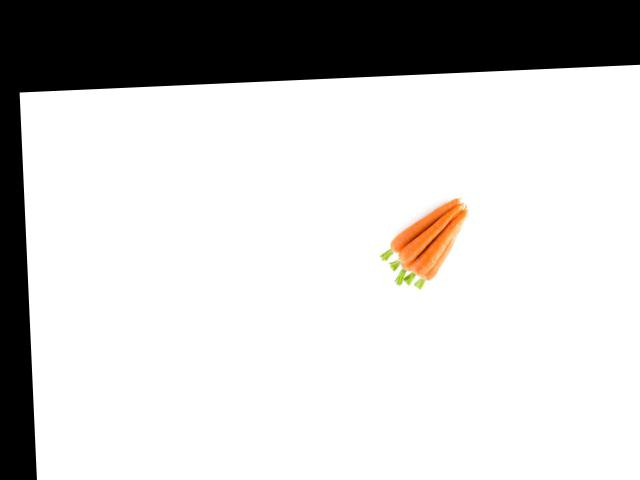carrot: (383, 191, 460, 251)
